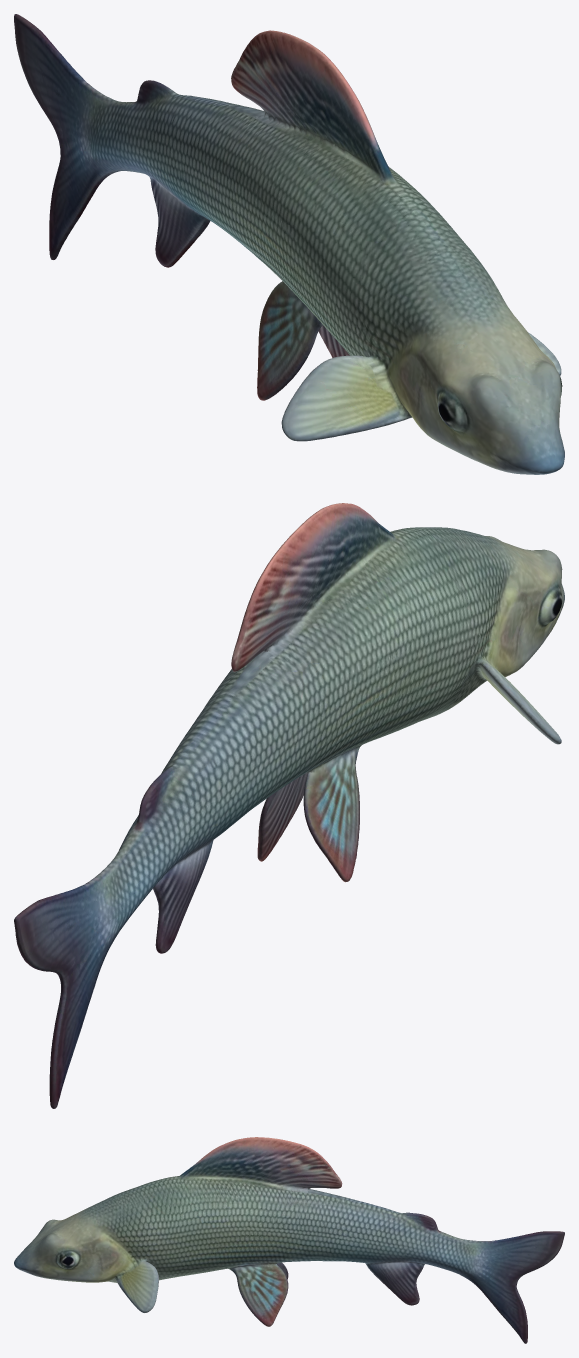
The model's file is hariuc.glb.
The picture shows the model from 3 angles, top to bottom: view 1: azimuth 30°, elevation 25°; view 2: azimuth 150°, elevation 25°; view 3: azimuth 270°, elevation 25°; orthographic projection. The views are drawn at different scales.
Size of the model in its own units: 0.561 by 0.7852 by 1.9.
Materials: 1 (1 with a texture image).
